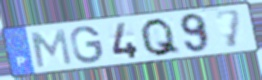4: (111, 21, 140, 60)
7: (214, 7, 243, 50)
9: (178, 11, 211, 55)
G: (68, 24, 105, 65)
M: (29, 28, 74, 69)
Q: (138, 17, 183, 58)
